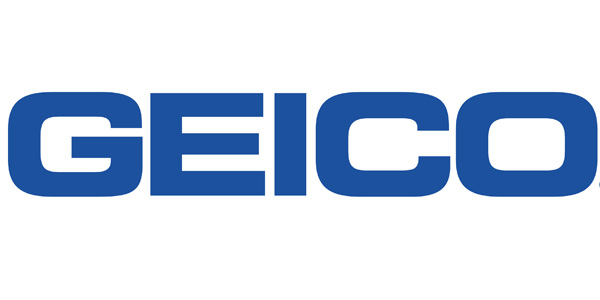Geico: (7, 89, 600, 202)
